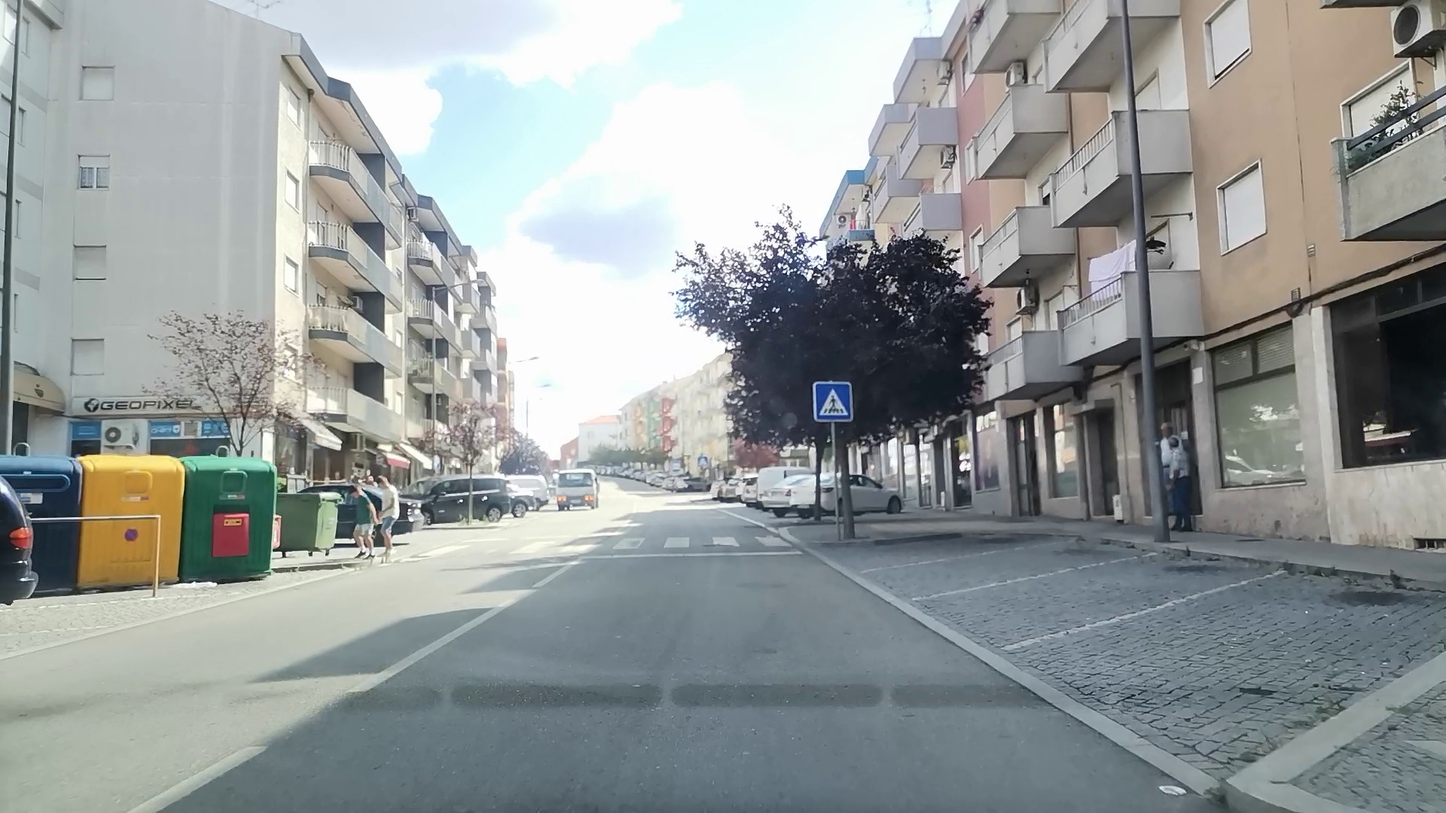Stairs: (410, 532, 795, 556)
